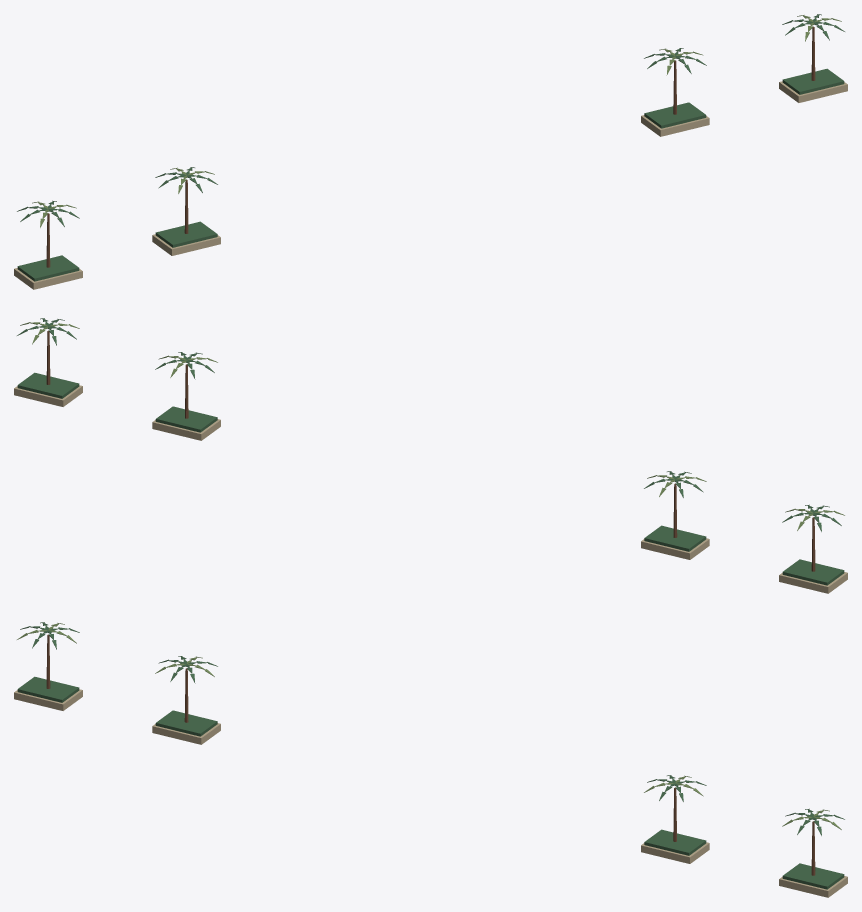
Rendered from KOL_T1_SONAR__Landscape.fbx.
3 renders of one model, top to bottom at view 1: azimuth 30°, elevation 25°; view 2: azimuth 150°, elevation 25°; view 3: azimuth 330°, elevation 25°, orthographic.
Visible parts, largest first — view 1: KOL_T1_SONAR__Landscape__KOL_T1_Leaf, KOL_T1_SONAR__Landscape__KOL_T1_Stone, KOL_T1_SONAR__Landscape__KOL_T1_Louvre, KOL_T1_SONAR__Landscape__KOL_T1_LeafLight; view 2: KOL_T1_SONAR__Landscape__KOL_T1_Leaf, KOL_T1_SONAR__Landscape__KOL_T1_Stone, KOL_T1_SONAR__Landscape__KOL_T1_Louvre, KOL_T1_SONAR__Landscape__KOL_T1_LeafLight; view 3: KOL_T1_SONAR__Landscape__KOL_T1_Leaf, KOL_T1_SONAR__Landscape__KOL_T1_Stone, KOL_T1_SONAR__Landscape__KOL_T1_Louvre, KOL_T1_SONAR__Landscape__KOL_T1_LeafLight.
Part boxes in pixels (box(x1,y1,x2,y2)): KOL_T1_SONAR__Landscape__KOL_T1_Leaf: box(17, 14, 844, 281); KOL_T1_SONAR__Landscape__KOL_T1_Stone: box(14, 81, 847, 289); KOL_T1_SONAR__Landscape__KOL_T1_Louvre: box(46, 26, 815, 267); KOL_T1_SONAR__Landscape__KOL_T1_LeafLight: box(32, 15, 841, 227); KOL_T1_SONAR__Landscape__KOL_T1_Leaf: box(17, 318, 844, 585); KOL_T1_SONAR__Landscape__KOL_T1_Stone: box(14, 385, 847, 593); KOL_T1_SONAR__Landscape__KOL_T1_Louvre: box(46, 330, 815, 571); KOL_T1_SONAR__Landscape__KOL_T1_LeafLight: box(20, 322, 844, 530); KOL_T1_SONAR__Landscape__KOL_T1_Leaf: box(17, 622, 844, 889); KOL_T1_SONAR__Landscape__KOL_T1_Stone: box(14, 689, 847, 897); KOL_T1_SONAR__Landscape__KOL_T1_Louvre: box(46, 634, 815, 875); KOL_T1_SONAR__Landscape__KOL_T1_LeafLight: box(17, 623, 841, 829).
Bounding box in the file's own units: 217 × 17.25 × 15.
